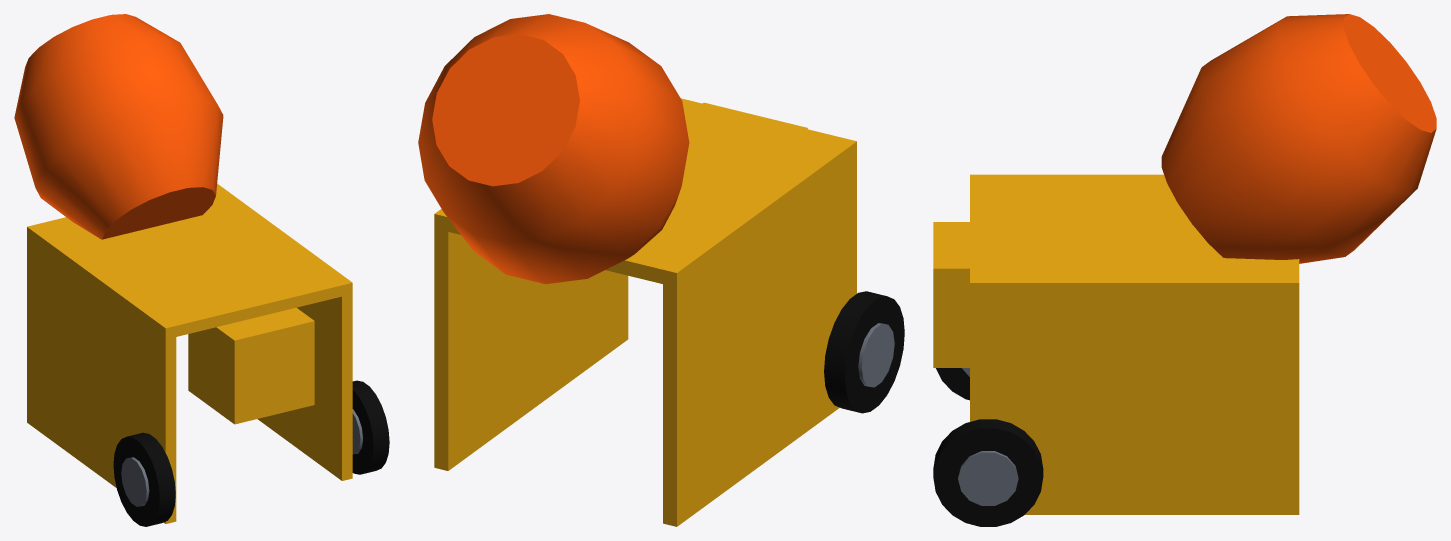
Rendered from plant.small.cement_mixer.glb.
3 views of the same model, side by side, from view 1: azimuth 30°, elevation 25°; view 2: azimuth 150°, elevation 25°; view 3: azimuth 270°, elevation 25° (orthographic). The views are drawn at different scales.
Parts seen in each view (by area): view 1: main__plant_yellow, main__hivis_orange, main__rubber, main__steel_painted; view 2: main__plant_yellow, main__hivis_orange, main__rubber, main__steel_painted; view 3: main__plant_yellow, main__hivis_orange, main__rubber, main__steel_painted.
Boxes of the visible parts, bbox=[...] form: main__plant_yellow: bbox=[27, 183, 352, 523]; main__hivis_orange: bbox=[14, 14, 223, 239]; main__rubber: bbox=[113, 380, 389, 526]; main__steel_painted: bbox=[121, 409, 362, 506]; main__plant_yellow: bbox=[434, 98, 856, 526]; main__hivis_orange: bbox=[418, 14, 689, 284]; main__rubber: bbox=[824, 291, 904, 413]; main__steel_painted: bbox=[858, 323, 894, 387]; main__plant_yellow: bbox=[933, 174, 1299, 514]; main__hivis_orange: bbox=[1161, 14, 1436, 263]; main__rubber: bbox=[933, 368, 1043, 526]; main__steel_painted: bbox=[958, 368, 1018, 505].
Bounding box in the file's own units: 0.88 × 1.32 × 1.37.
